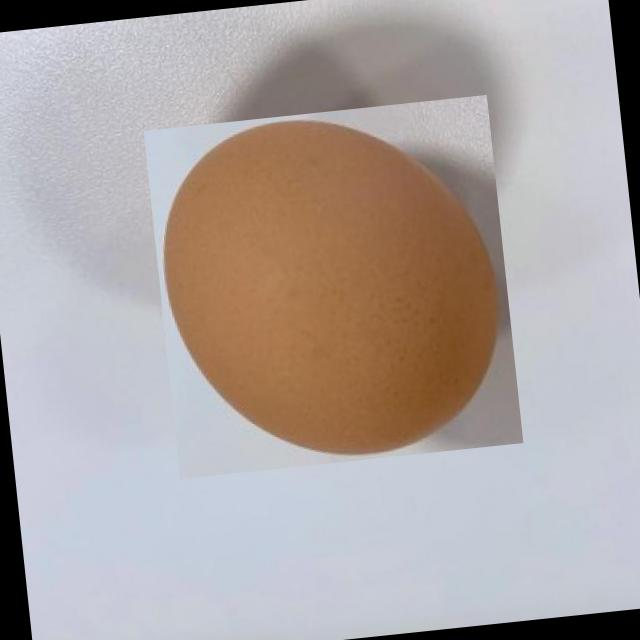eggs: (142, 95, 524, 477)
